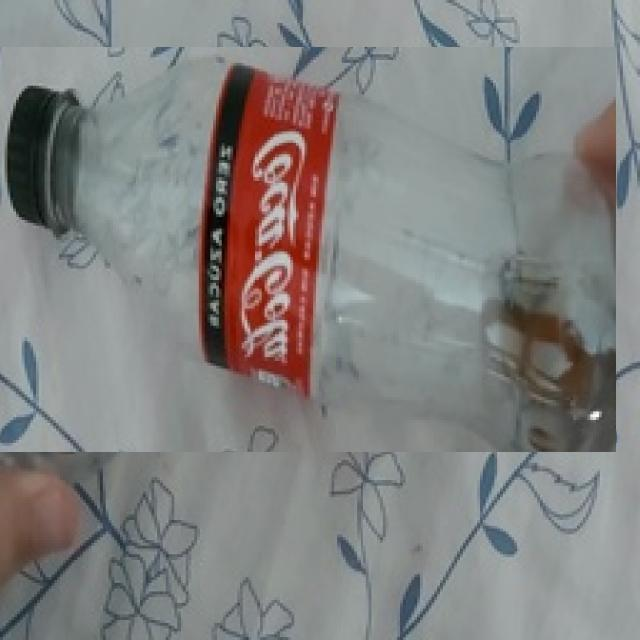BIODEGRADABLE: (0, 47, 616, 452)
